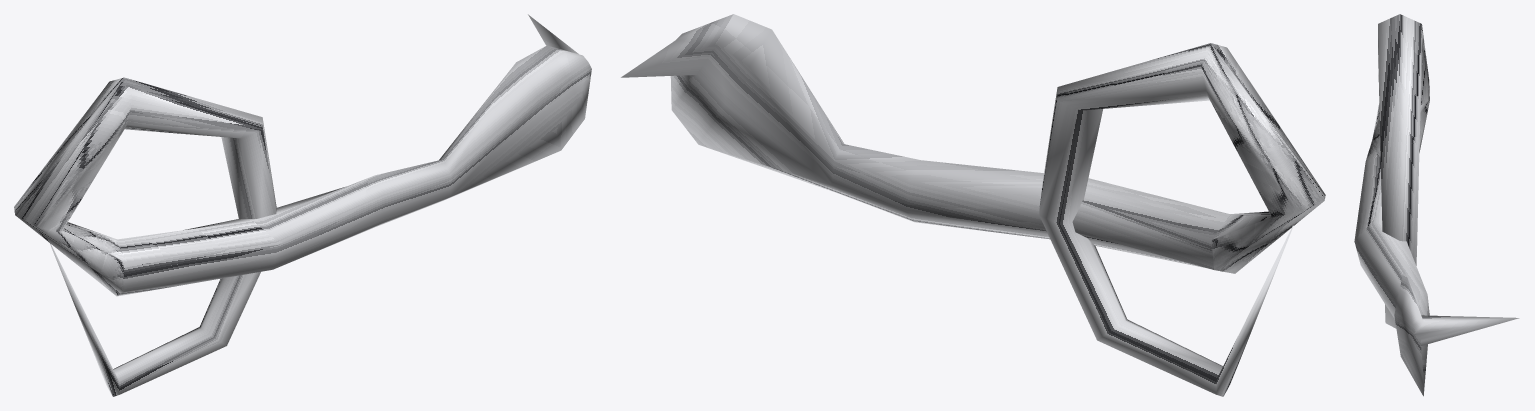
File: snake_000054.obj
3 renders of one model, left to right at view 1: azimuth 30°, elevation 25°; view 2: azimuth 150°, elevation 25°; view 3: azimuth 270°, elevation 25°, orthographic. The views are drawn at different scales.
Parts seen in each view (by area): view 1: Cylinder; view 2: Cylinder; view 3: Cylinder.
Boxes of the visible parts, x1,y1,x2,y2 form: Cylinder: [14, 14, 591, 396]; Cylinder: [621, 14, 1325, 396]; Cylinder: [1354, 14, 1519, 396].
Bounding box in the file's own units: 4.7 × 2.44 × 1.25.
